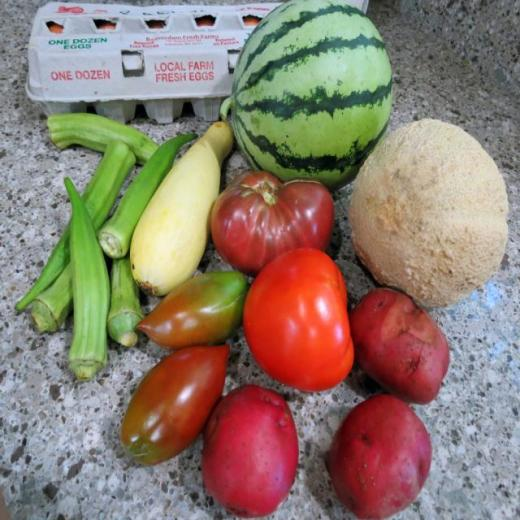Cherry: (221, 0, 394, 195)
